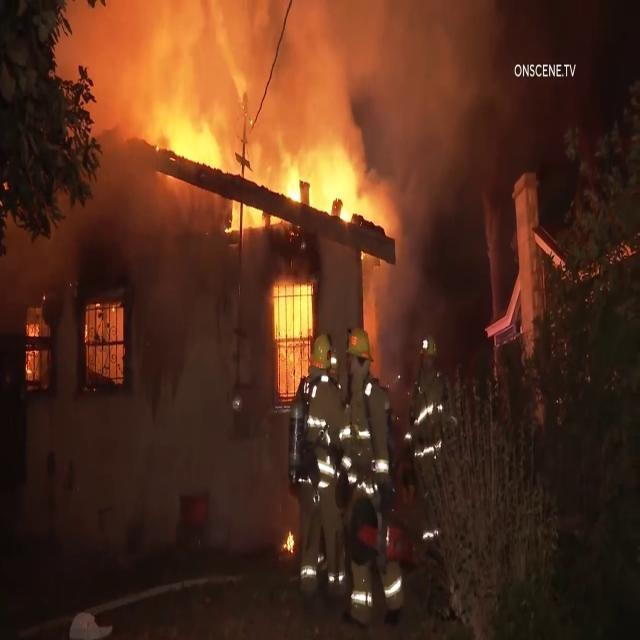Fire: (277, 154, 393, 265), (162, 134, 250, 223), (273, 287, 306, 383), (284, 530, 300, 555)
Smoke: (222, 2, 495, 112), (418, 115, 464, 268)
